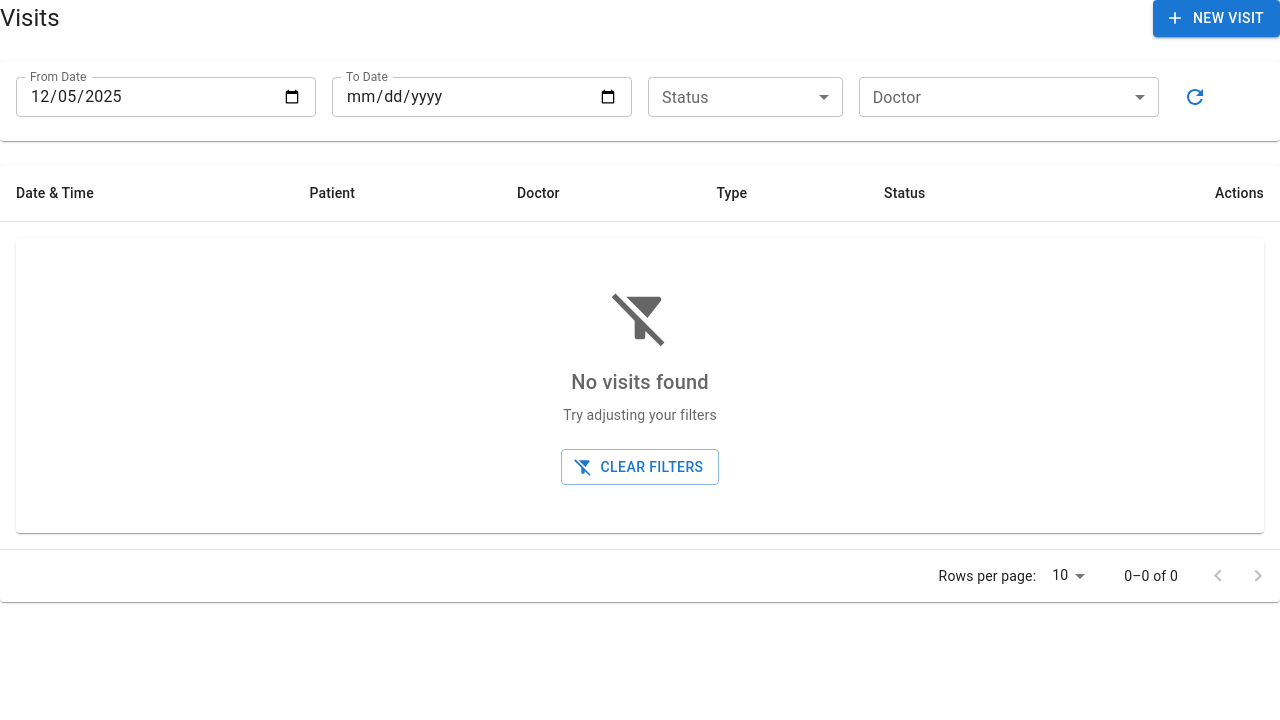
Test: Visit Workflow Integration Tests › New Visit Dialog › should open new visit dialog when clicking New Visit button
The image size is (1280, 720).
# Click new visit button
Click the button "New Visit": [1216, 18] box top-left (1153, 0), bottom-right (1279, 36)
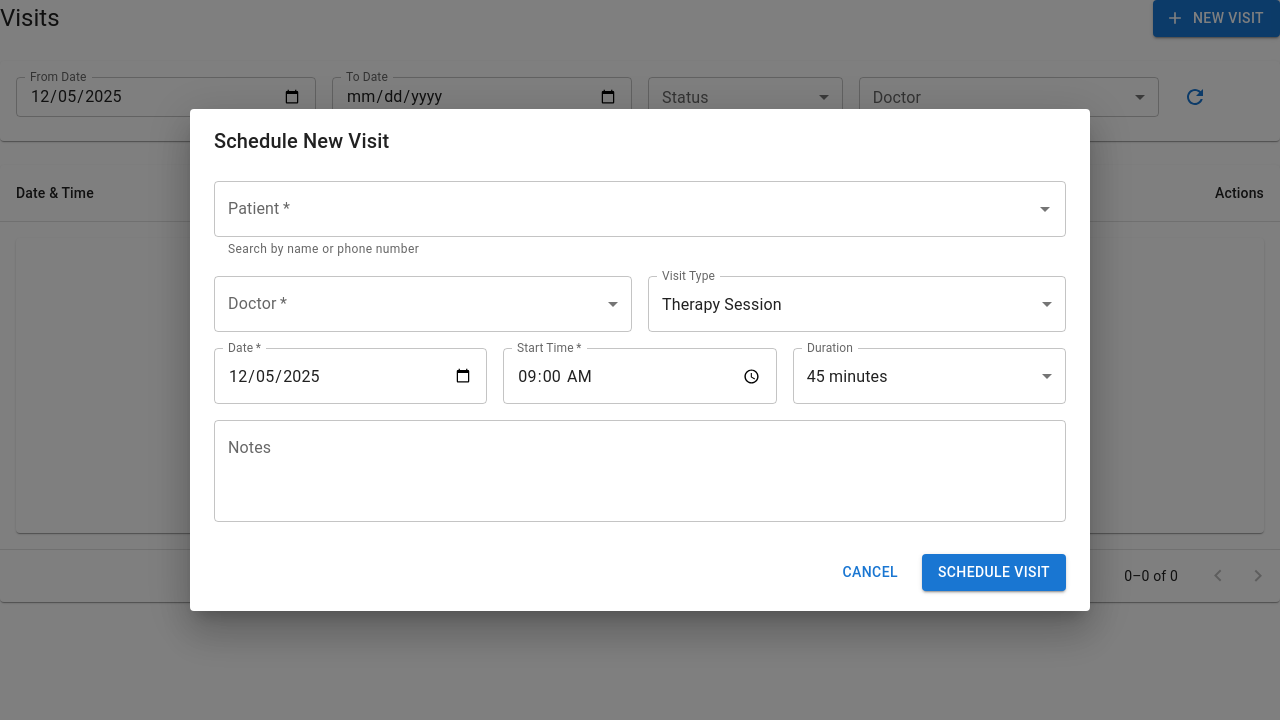
Result: the heading "Schedule New Visit" is shown at top-left (214, 129), bottom-right (389, 153)
